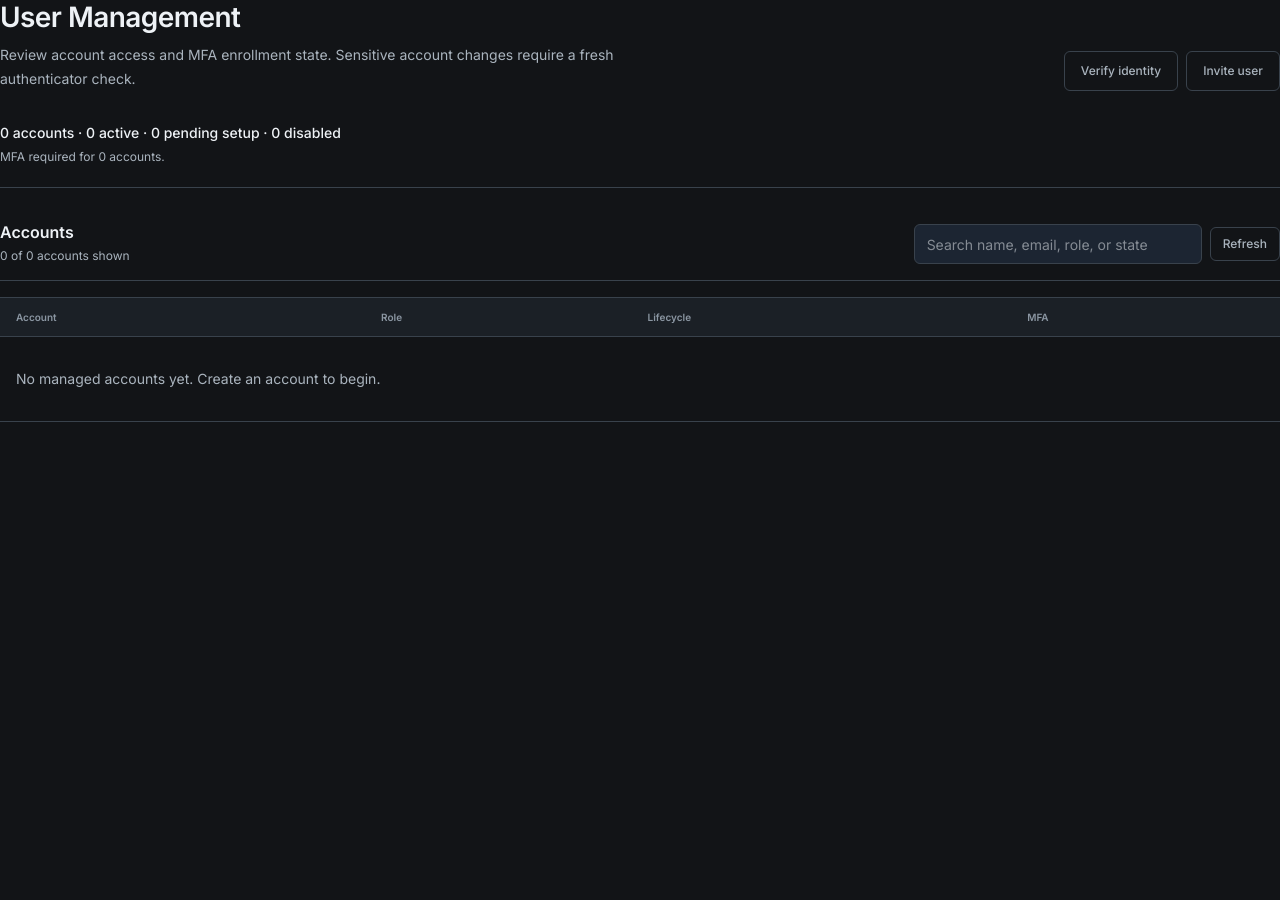
it: UserManagementWorkspace › shows accurate recent-step-up guidance instead of assuming every failure is TOTP
The image size is (1280, 900).
Click the button "Invite user". click: (1233, 71)
box: left=1186, top=51, right=1279, bottom=91
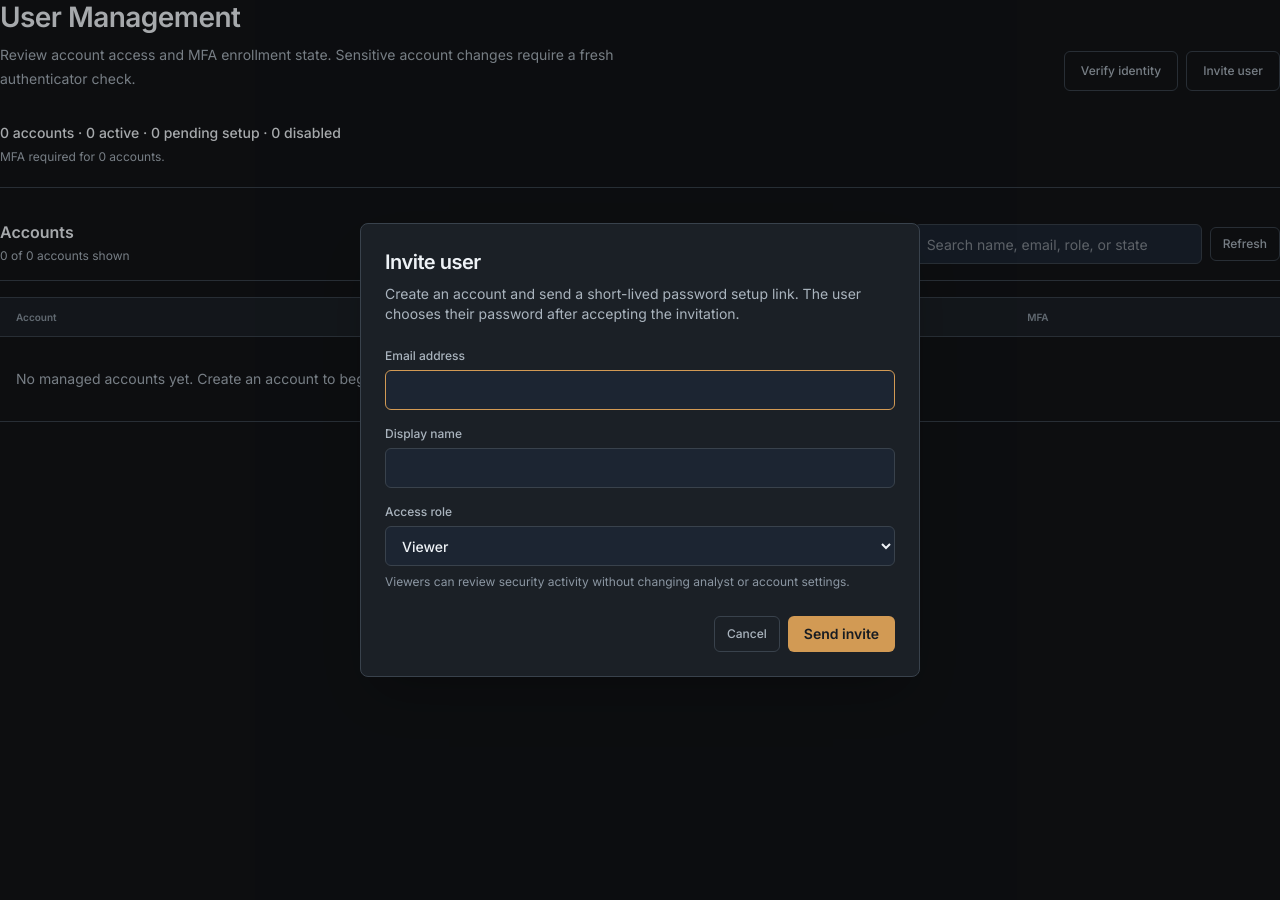
Type "new@example.test" into the field labelled "Email address". click: (640, 390)
box: left=385, top=370, right=895, bottom=410
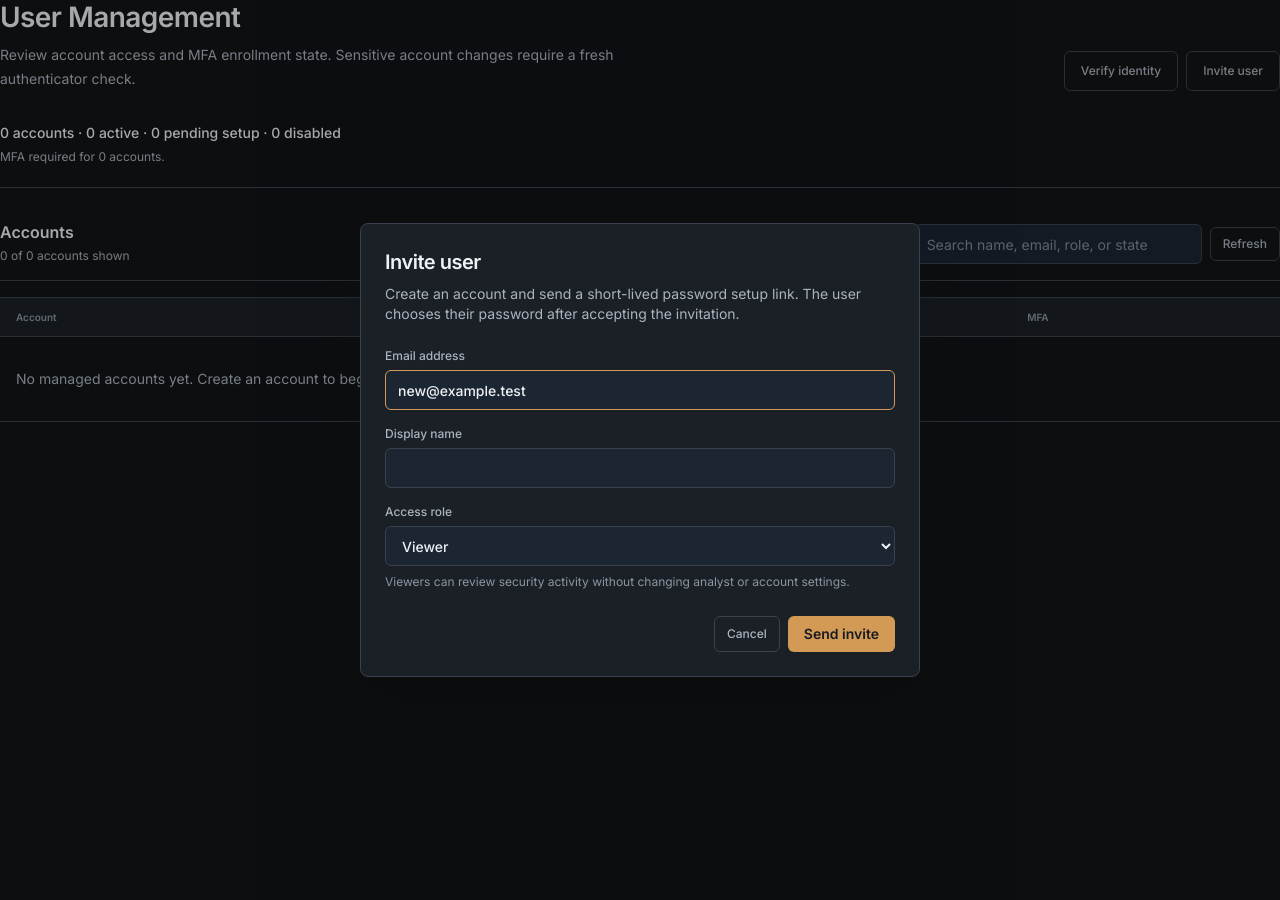
Type "New Viewer" into the field labelled "Display name". click: (640, 468)
box: left=385, top=448, right=895, bottom=488
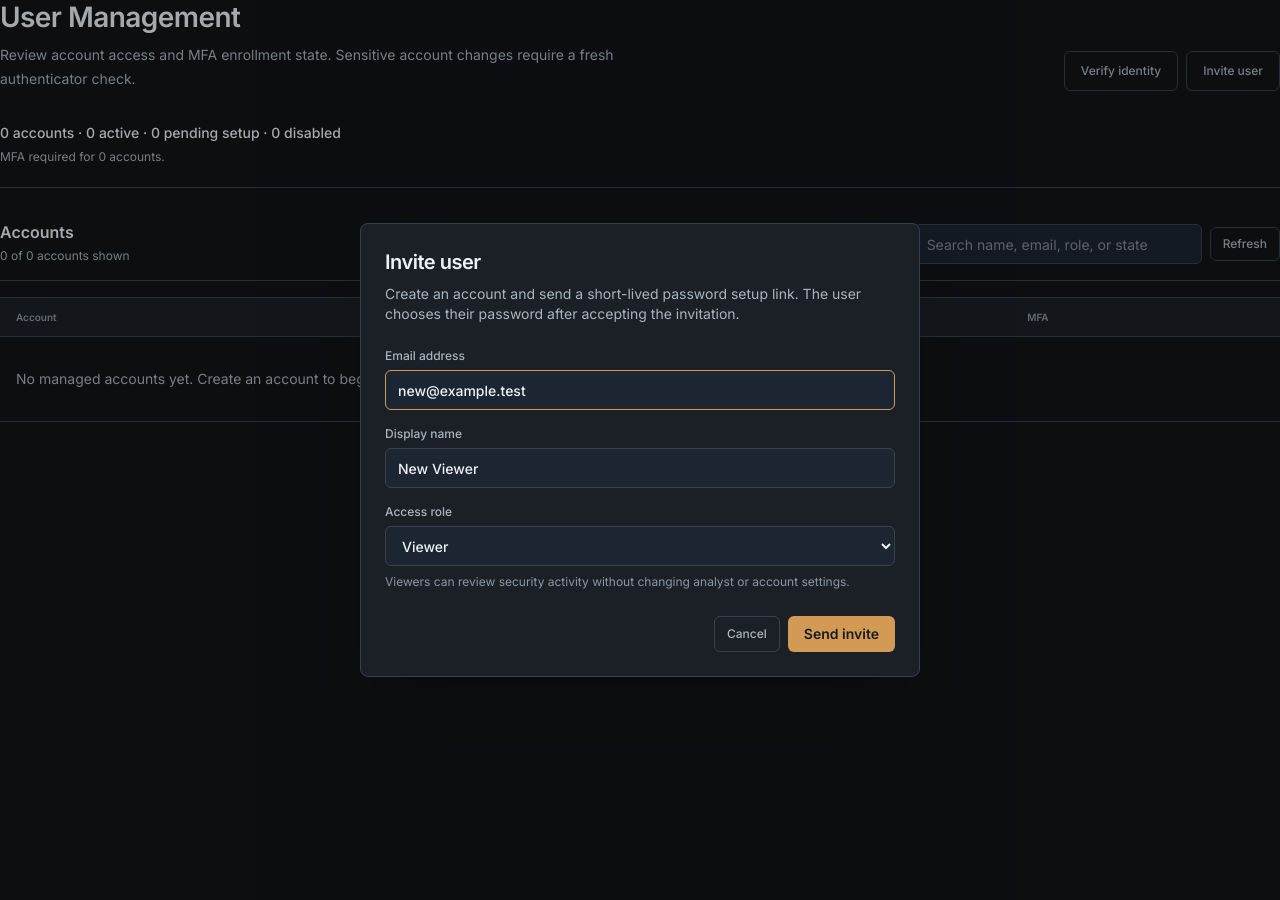
Click the button "Send invite". click: (841, 634)
box: left=788, top=616, right=895, bottom=652
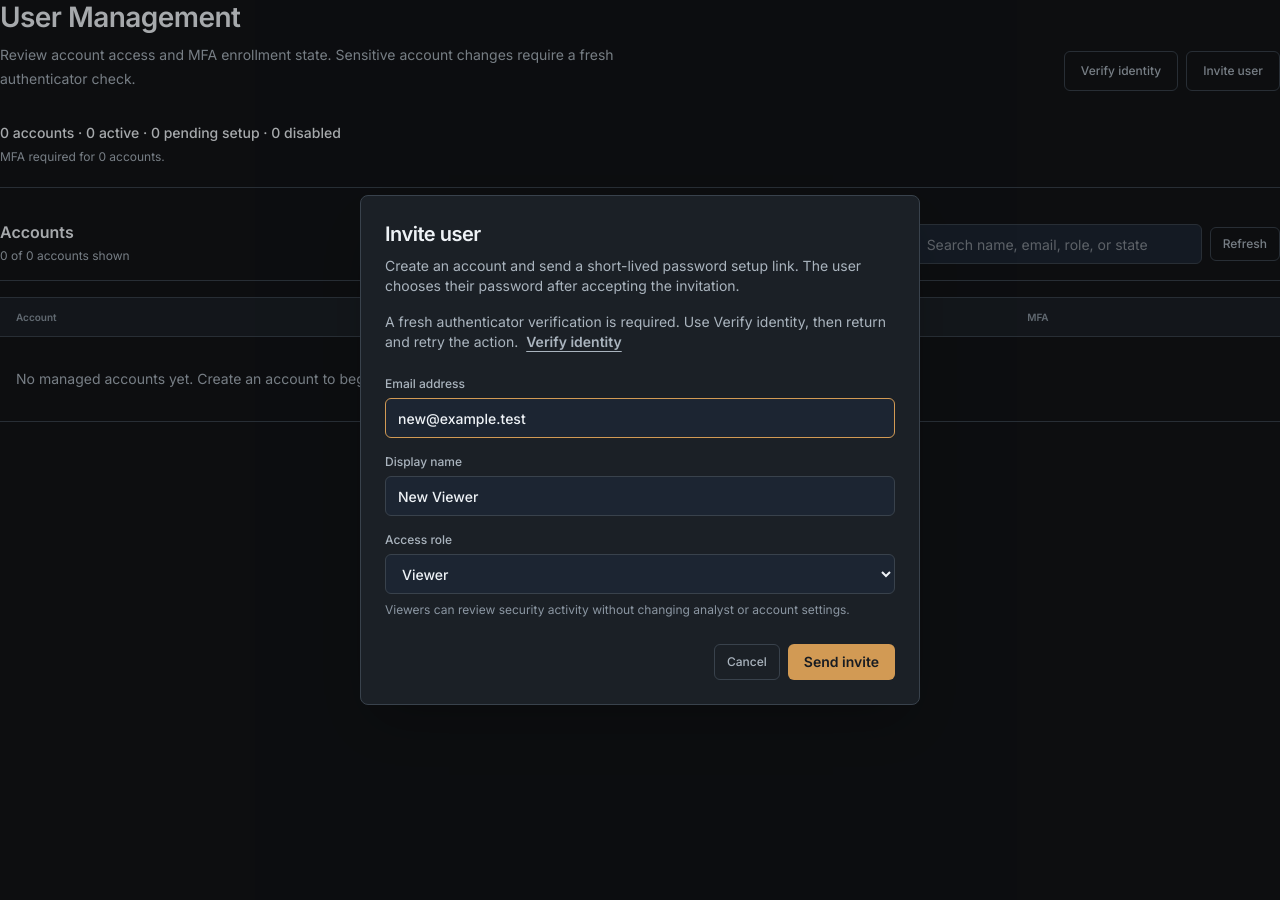
Result: the message shows "fresh authenticator verification is required" at left=385, top=313, right=886, bottom=350
